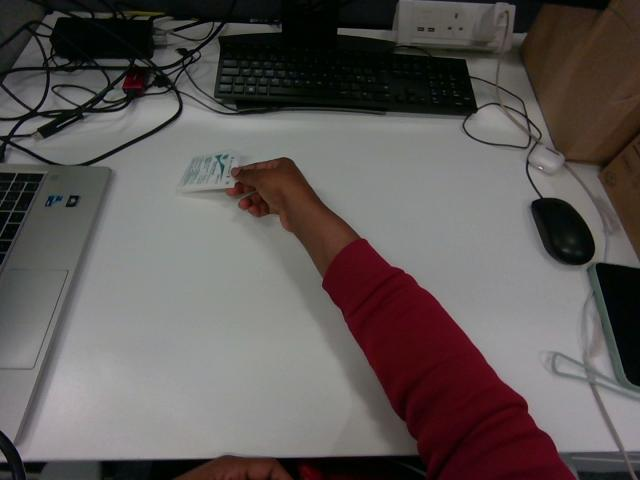gauze: (177, 150, 238, 192)
